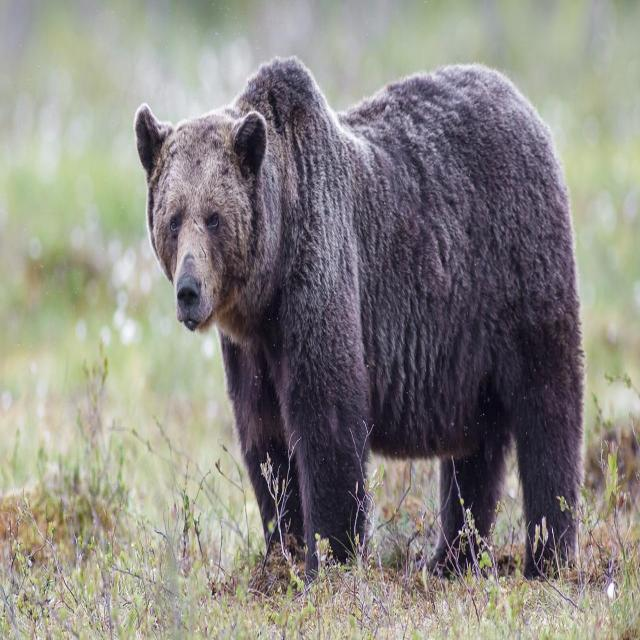Bear: (134, 56, 586, 587)
